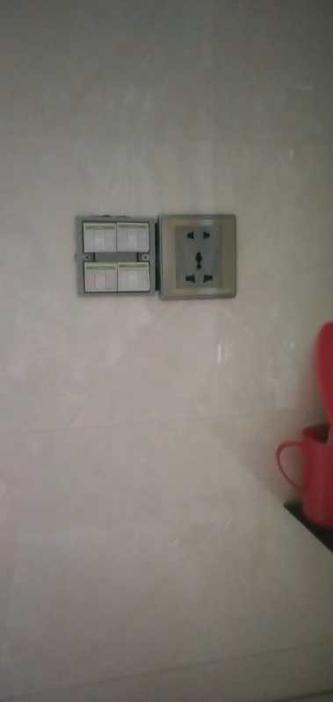switch: (86, 266, 117, 294), (124, 268, 152, 294), (84, 221, 113, 245), (123, 226, 152, 250)
